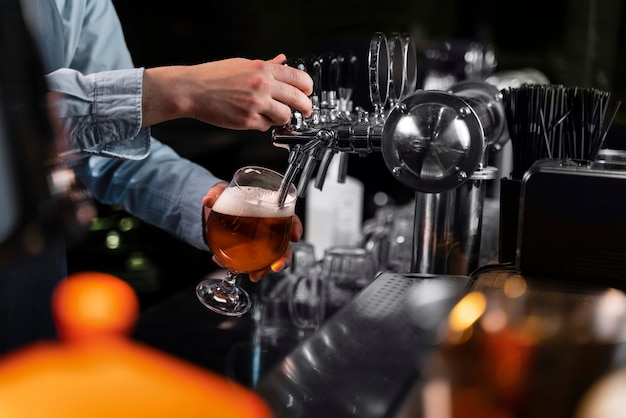alcohol: (195, 158, 294, 318)
